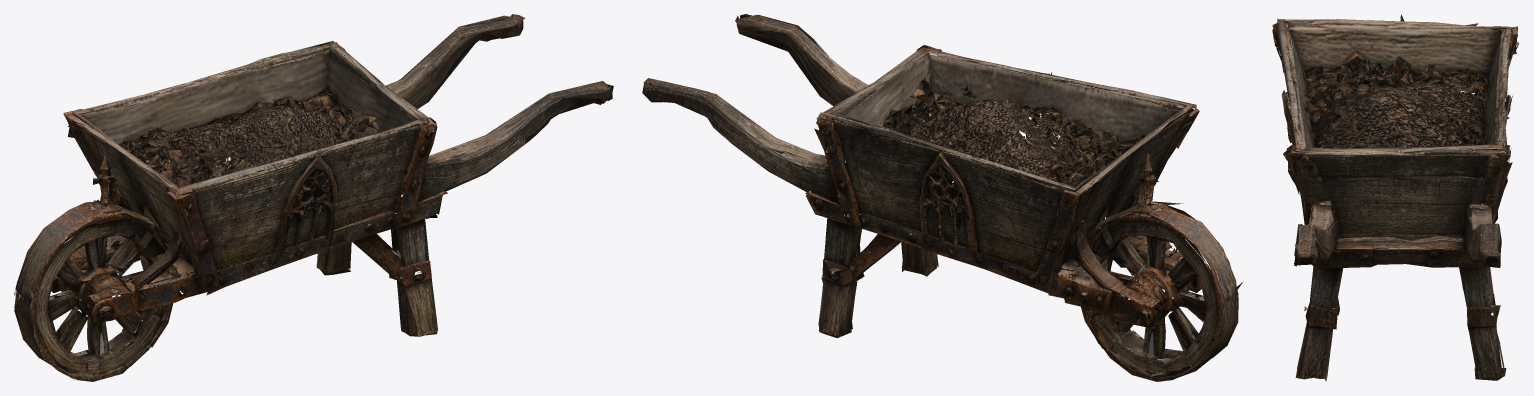
File: Wheelbarrow.fbx
The picture shows the model from 3 angles, left to right: view 1: azimuth 30°, elevation 25°; view 2: azimuth 150°, elevation 25°; view 3: azimuth 270°, elevation 25°; orthographic projection. The views are drawn at different scales.
Parts seen in each view (by area): view 1: Wheelbarrow; view 2: Wheelbarrow; view 3: Wheelbarrow.
Part boxes in pixels (bbox=[...]): Wheelbarrow: bbox=[14, 14, 613, 381]; Wheelbarrow: bbox=[642, 14, 1243, 381]; Wheelbarrow: bbox=[1272, 14, 1519, 381].
Bounding box in the file's own units: 101 × 39.9 × 37.98.
Materials: 1 (1 with a texture image).
